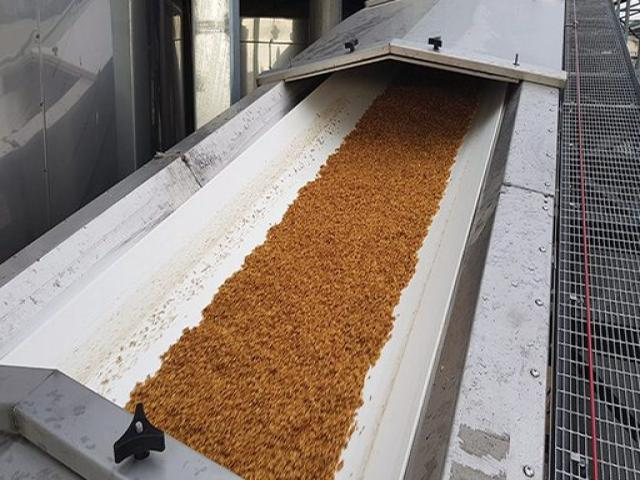conveyor: (17, 65, 566, 476)
